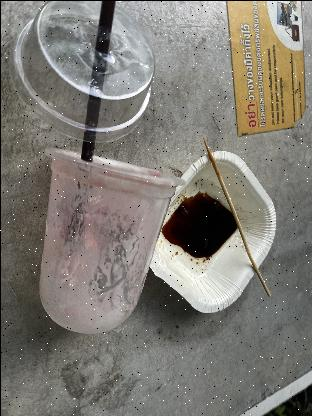Others: (35, 144, 185, 334), (144, 146, 280, 312), (10, 0, 152, 142), (197, 132, 277, 300), (77, 0, 119, 164)
